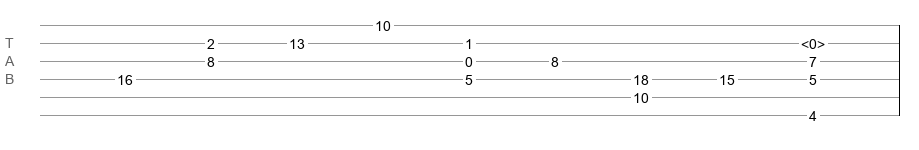0: (465, 54, 473, 64)
1: (465, 36, 473, 46)
10: (375, 18, 391, 28), (633, 90, 649, 100)
13: (289, 36, 305, 46)
15: (719, 72, 735, 82)
16: (117, 72, 133, 82)
18: (633, 72, 649, 82)
2: (207, 36, 215, 46)
4: (809, 108, 817, 118)
5: (465, 72, 473, 82), (809, 72, 817, 82)
7: (809, 54, 817, 64)
8: (207, 54, 215, 64), (551, 54, 559, 64)
harmonic: (801, 36, 825, 46)
